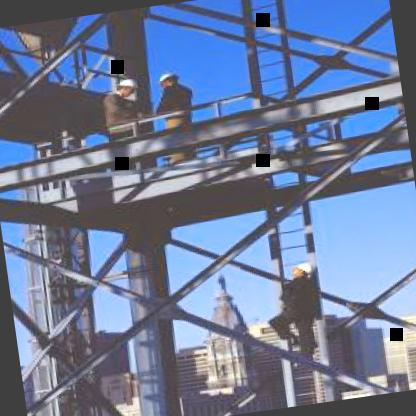helmet: (110, 72, 141, 100), (288, 259, 316, 281), (154, 70, 180, 90)
